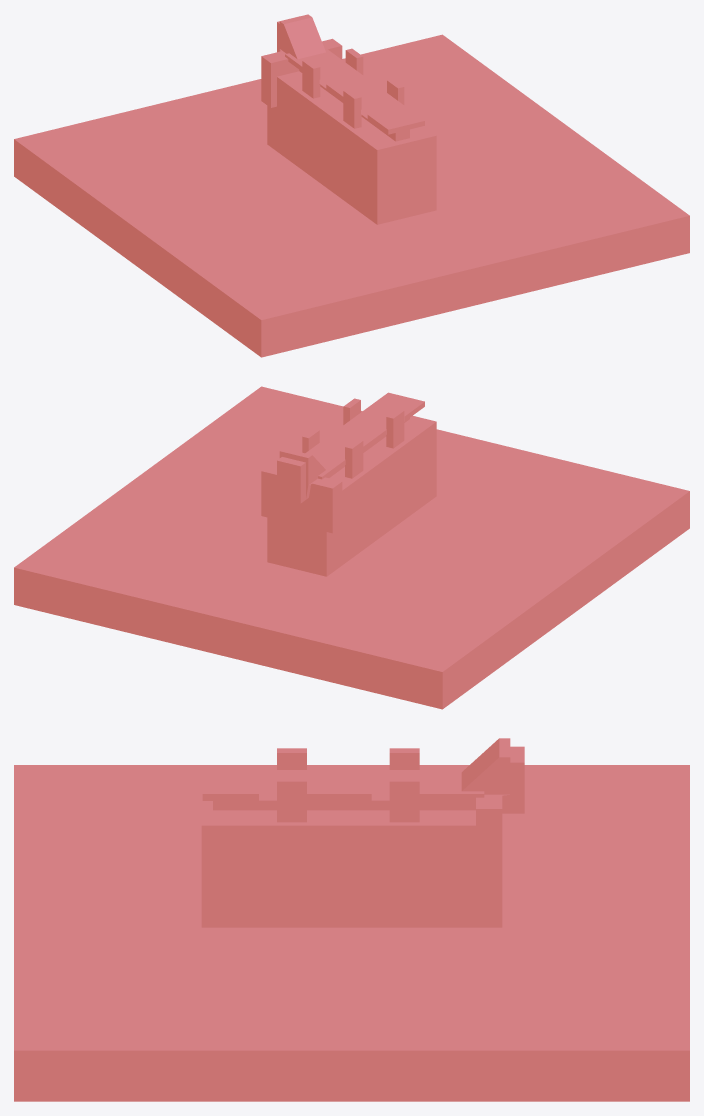
File: Pallet.glb
3 views of the same model, one above another, from view 1: azimuth 30°, elevation 25°; view 2: azimuth 150°, elevation 25°; view 3: azimuth 270°, elevation 25° (orthographic). The views are drawn at different scales.
Parts seen in each view (by area): view 1: Pallet_001, Pallet_002, Pallet_008, Pallet_009, Pallet_004, Pallet_007; view 2: Pallet_001, Pallet_002, Pallet_008, Pallet_009, Pallet_006, Pallet_004, Pallet_007; view 3: Pallet_001, Pallet_002, Pallet_008, Pallet_009, Pallet_005, Pallet_003, Pallet_006, Pallet_004, Pallet_007.
Boxes of the visible parts, <box> form: Pallet_001: <box>14,34,689,357</box>; Pallet_002: <box>267,71,436,224</box>; Pallet_008: <box>279,14,424,134</box>; Pallet_009: <box>261,38,409,141</box>; Pallet_004: <box>302,59,320,98</box>; Pallet_007: <box>343,89,361,128</box>; Pallet_001: <box>14,386,689,709</box>; Pallet_002: <box>267,415,436,576</box>; Pallet_008: <box>279,392,424,497</box>; Pallet_009: <box>261,418,409,533</box>; Pallet_006: <box>277,457,310,503</box>; Pallet_004: <box>345,439,363,478</box>; Pallet_007: <box>386,409,404,448</box>; Pallet_001: <box>14,765,689,1101</box>; Pallet_002: <box>201,786,502,927</box>; Pallet_008: <box>202,738,510,800</box>; Pallet_009: <box>213,795,502,870</box>; Pallet_005: <box>389,777,419,822</box>; Pallet_003: <box>277,777,306,822</box>; Pallet_006: <box>502,746,524,813</box>; Pallet_004: <box>389,748,419,769</box>; Pallet_007: <box>277,748,306,769</box>.
Size of the model in its own units: 0.18 by 0.062 by 0.18.
